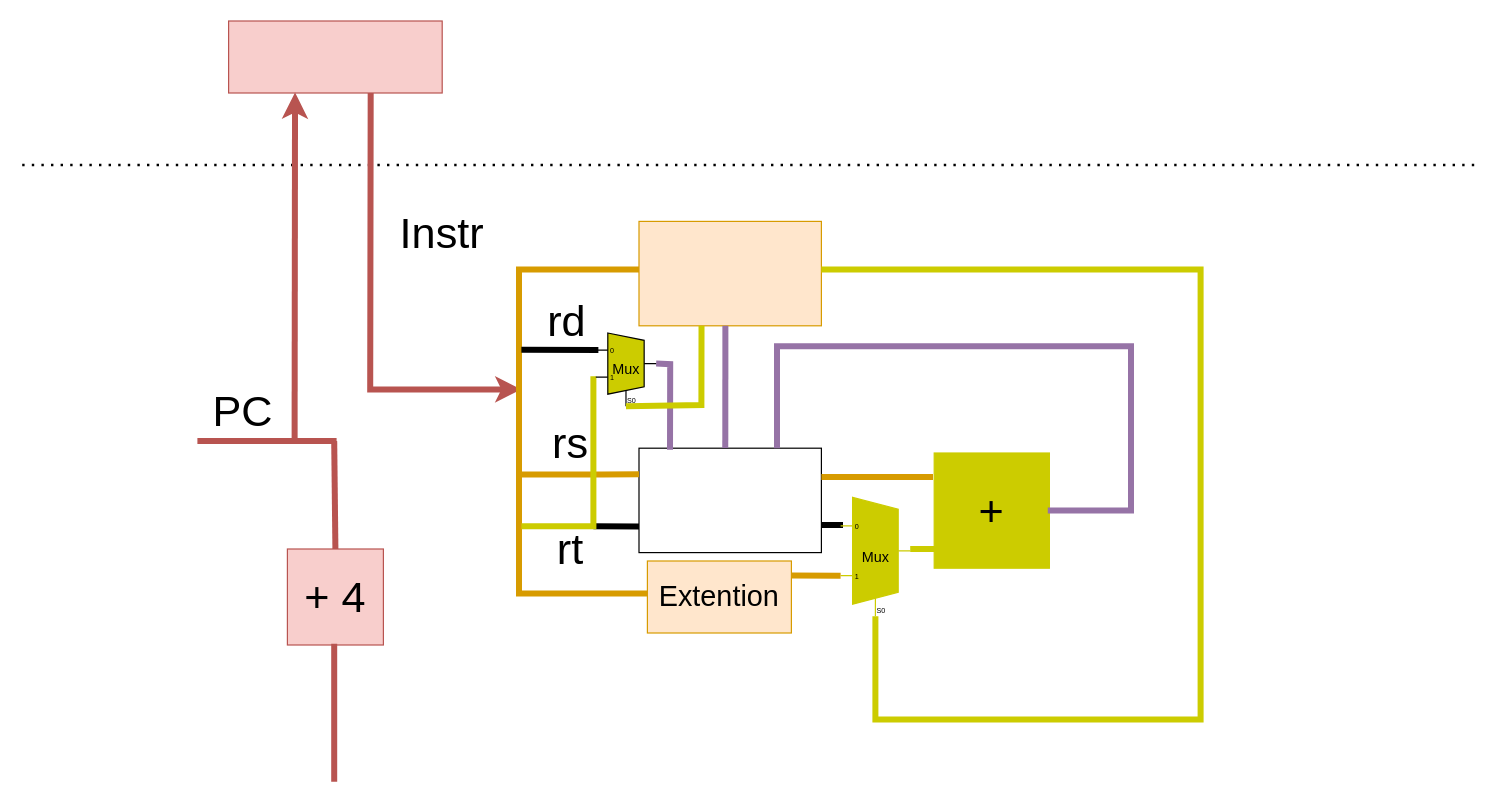
This 1496x806 diagram has some shape labels left out. The centre of each missing label's shape, as x and y in pixels:
Controller: [729,273]
Instruction memory: [334,56]
Register File: [729,500]
